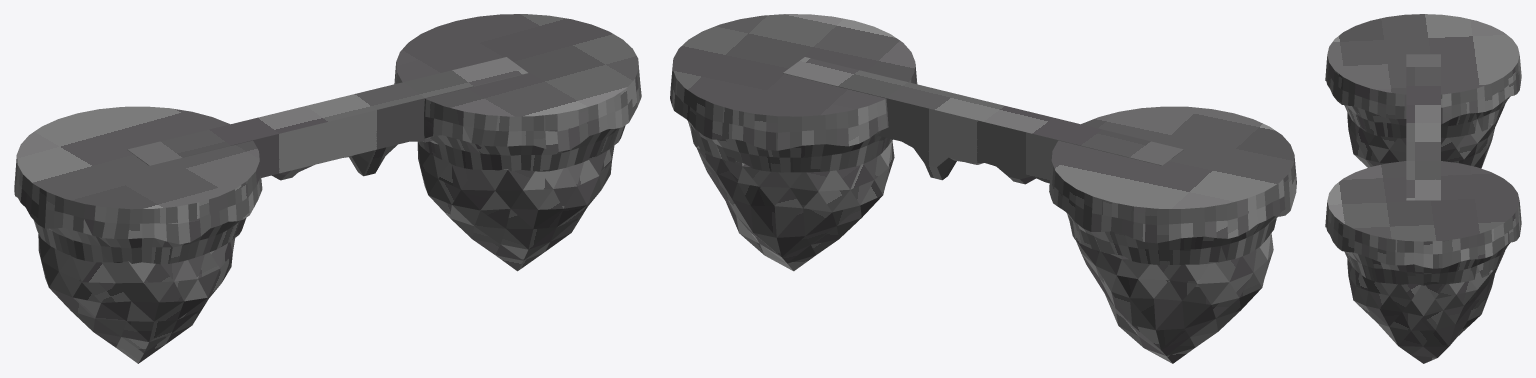
Rendered from platform_voidglb.glb.
3 views of the same model, side by side, from view 1: azimuth 30°, elevation 25°; view 2: azimuth 150°, elevation 25°; view 3: azimuth 270°, elevation 25° (orthographic). The views are drawn at different scales.
Parts seen in each view (by area): view 1: Platform; view 2: Platform; view 3: Platform.
Part boxes in pixels (x1=…): Platform: x1=14, y1=14, x2=641, y2=363; Platform: x1=670, y1=14, x2=1296, y2=363; Platform: x1=1325, y1=14, x2=1521, y2=363.
Size of what is drawn, in the model's own units: 31.35 by 10.41 by 11.35.
1 material, 1 textured.
